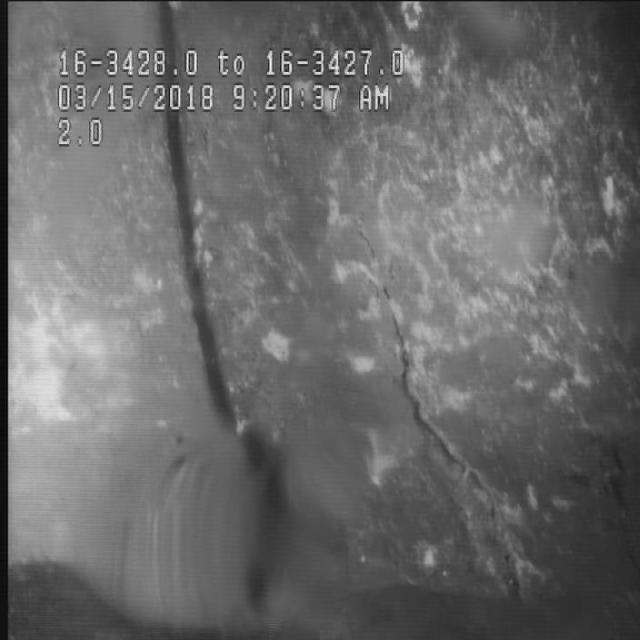Crack: (326, 208, 530, 601)
